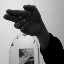h: (2, 3, 40, 37)
